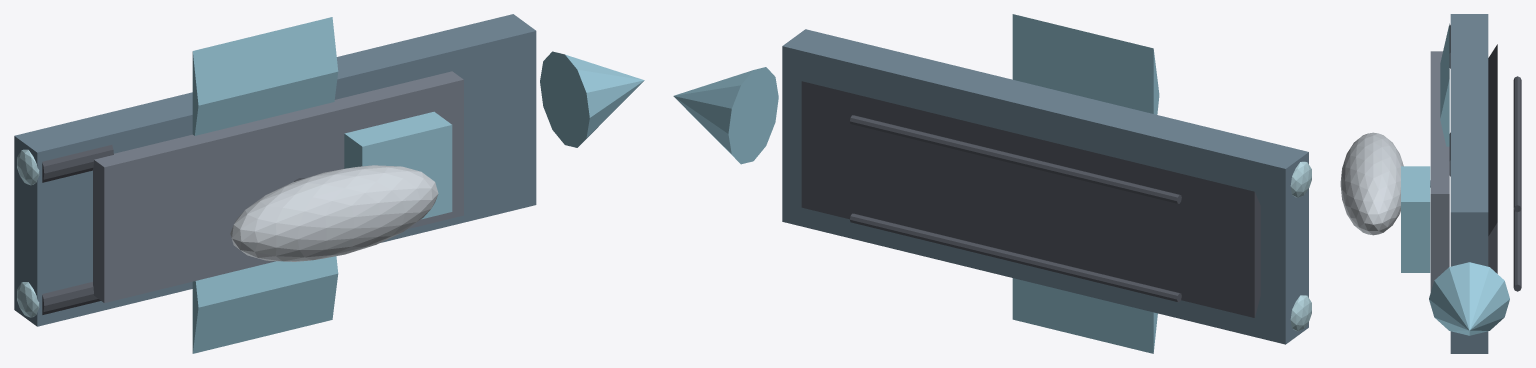
The model's file is SWS-002_cloudneedle_patrol_boat.glb.
3 views of the same model, side by side, from view 1: azimuth 30°, elevation 25°; view 2: azimuth 150°, elevation 25°; view 3: azimuth 270°, elevation 25° (orthographic). The views are drawn at different scales.
Parts seen in each view (by area): view 1: main_hull, upper_deck, aether_lift_bladder_1, wing_1, wing_-1, bridge, aether_nose, engine_pod_1, engine_pod_-1, engine_glow_1, engine_glow_-1; view 2: keel, main_hull, wing_1, wing_-1, aether_nose, landing_skid_-1, landing_skid_1, engine_glow_-1, engine_glow_1; view 3: main_hull, aether_lift_bladder_1, aether_nose, upper_deck, bridge, keel, landing_skid_1, wing_1, landing_skid_-1.
Boxes of the visible parts, x1,y1,x2,y2 form: main_hull: (14,14,536,326); upper_deck: (93,71,463,302); aether_lift_bladder_1: (230,165,438,261); wing_1: (192,17,338,135); wing_-1: (192,256,338,353); bridge: (344,111,452,219); aether_nose: (540,51,644,147); engine_pod_1: (42,145,113,182); engine_pod_-1: (42,282,100,314); engine_glow_1: (17,149,39,185); engine_glow_-1: (17,282,39,317); keel: (801,81,1260,317); main_hull: (782,29,1308,344); wing_1: (1012,14,1159,114); wing_-1: (1012,278,1157,353); aether_nose: (673,67,778,164); landing_skid_-1: (850,213,1181,302); landing_skid_1: (850,115,1181,203); engine_glow_-1: (1290,295,1311,331); engine_glow_1: (1290,161,1311,197); main_hull: (1450,14,1488,353); aether_lift_bladder_1: (1340,132,1403,235); aether_nose: (1429,262,1509,335); upper_deck: (1430,51,1449,291); bridge: (1401,166,1430,272); keel: (1488,44,1497,273); landing_skid_1: (1513,76,1521,212); wing_1: (1440,23,1449,146); landing_skid_-1: (1513,209,1521,291).
Bounding box in the file's own units: 15.06 × 6.96 × 4.63.
